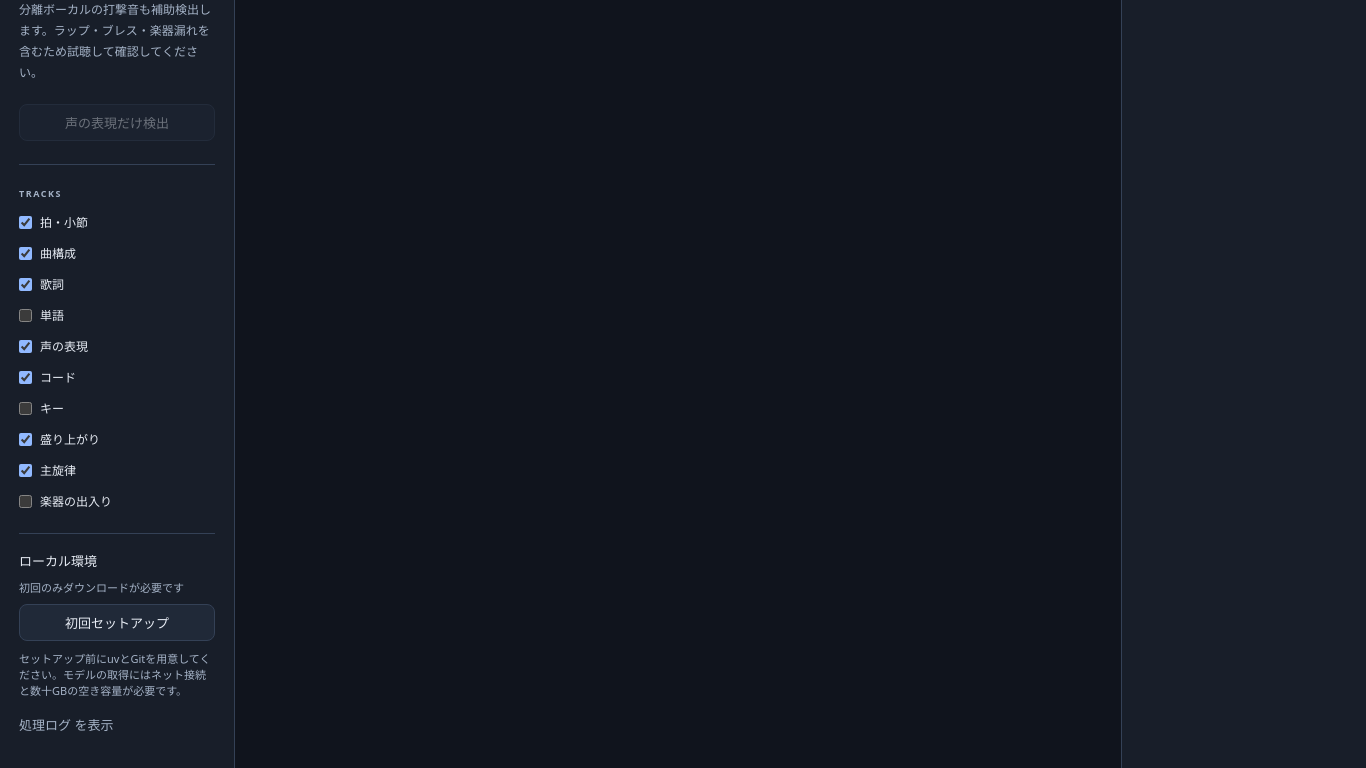
Scenario: Apple Silicon can start setup
(page scrolled)
Click the button "初回セットアップ" at (117, 622), box [19,604,215,641]
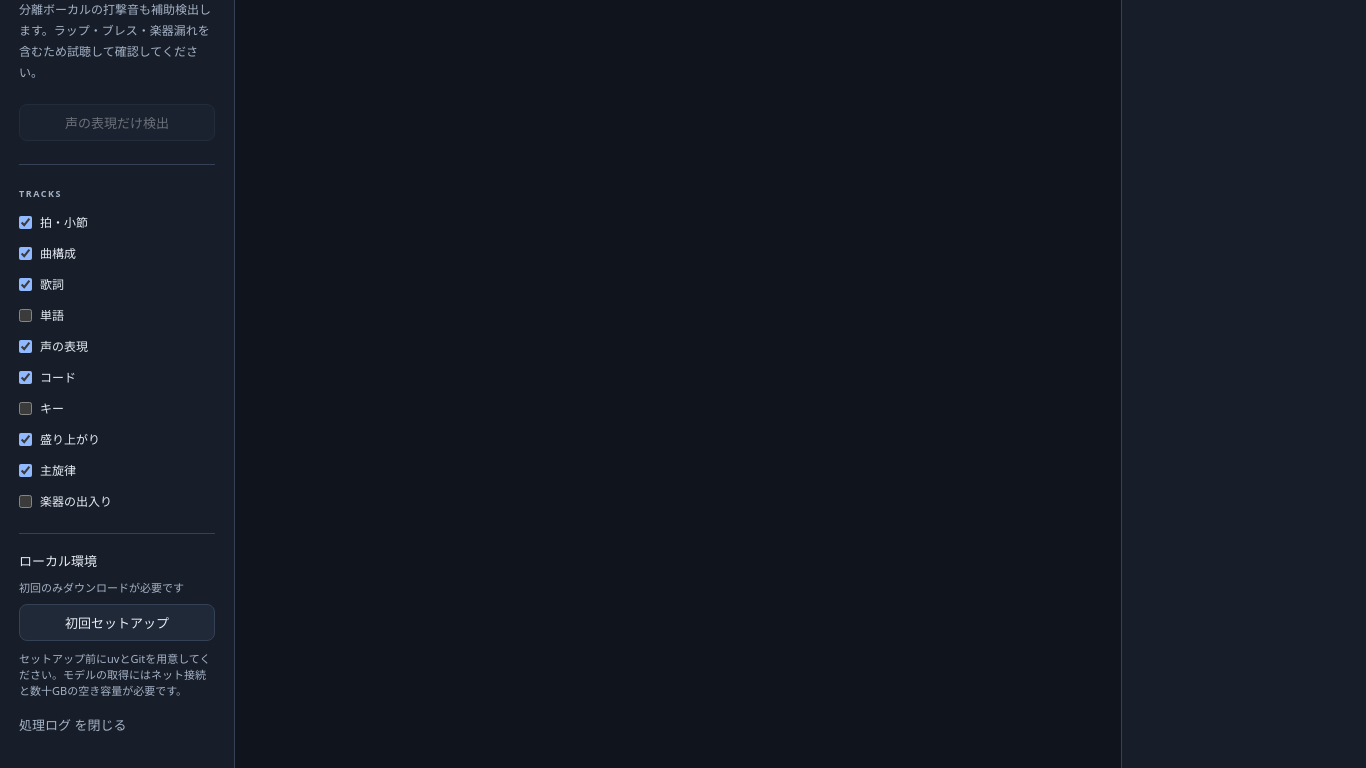
Now the button "処理ログ を閉じる" is shown, box [19,707,215,742]
